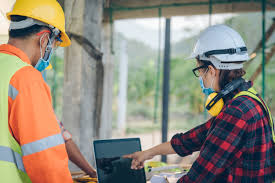Helmet: (4, 1, 76, 44), (187, 24, 255, 67)
No-jacket: (188, 98, 270, 183)
